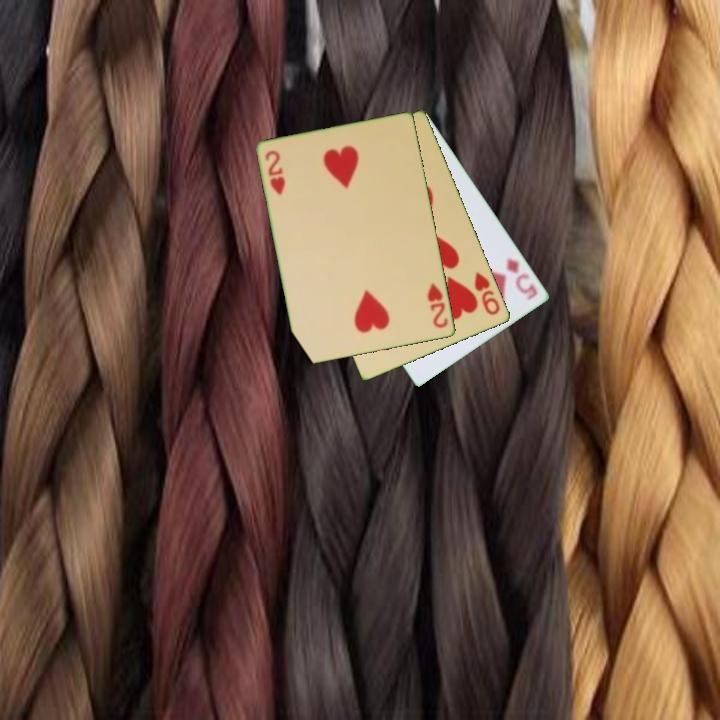2h: (424, 280, 451, 331), (262, 147, 289, 198)
5d: (503, 255, 541, 304)
9h: (471, 268, 503, 318)
